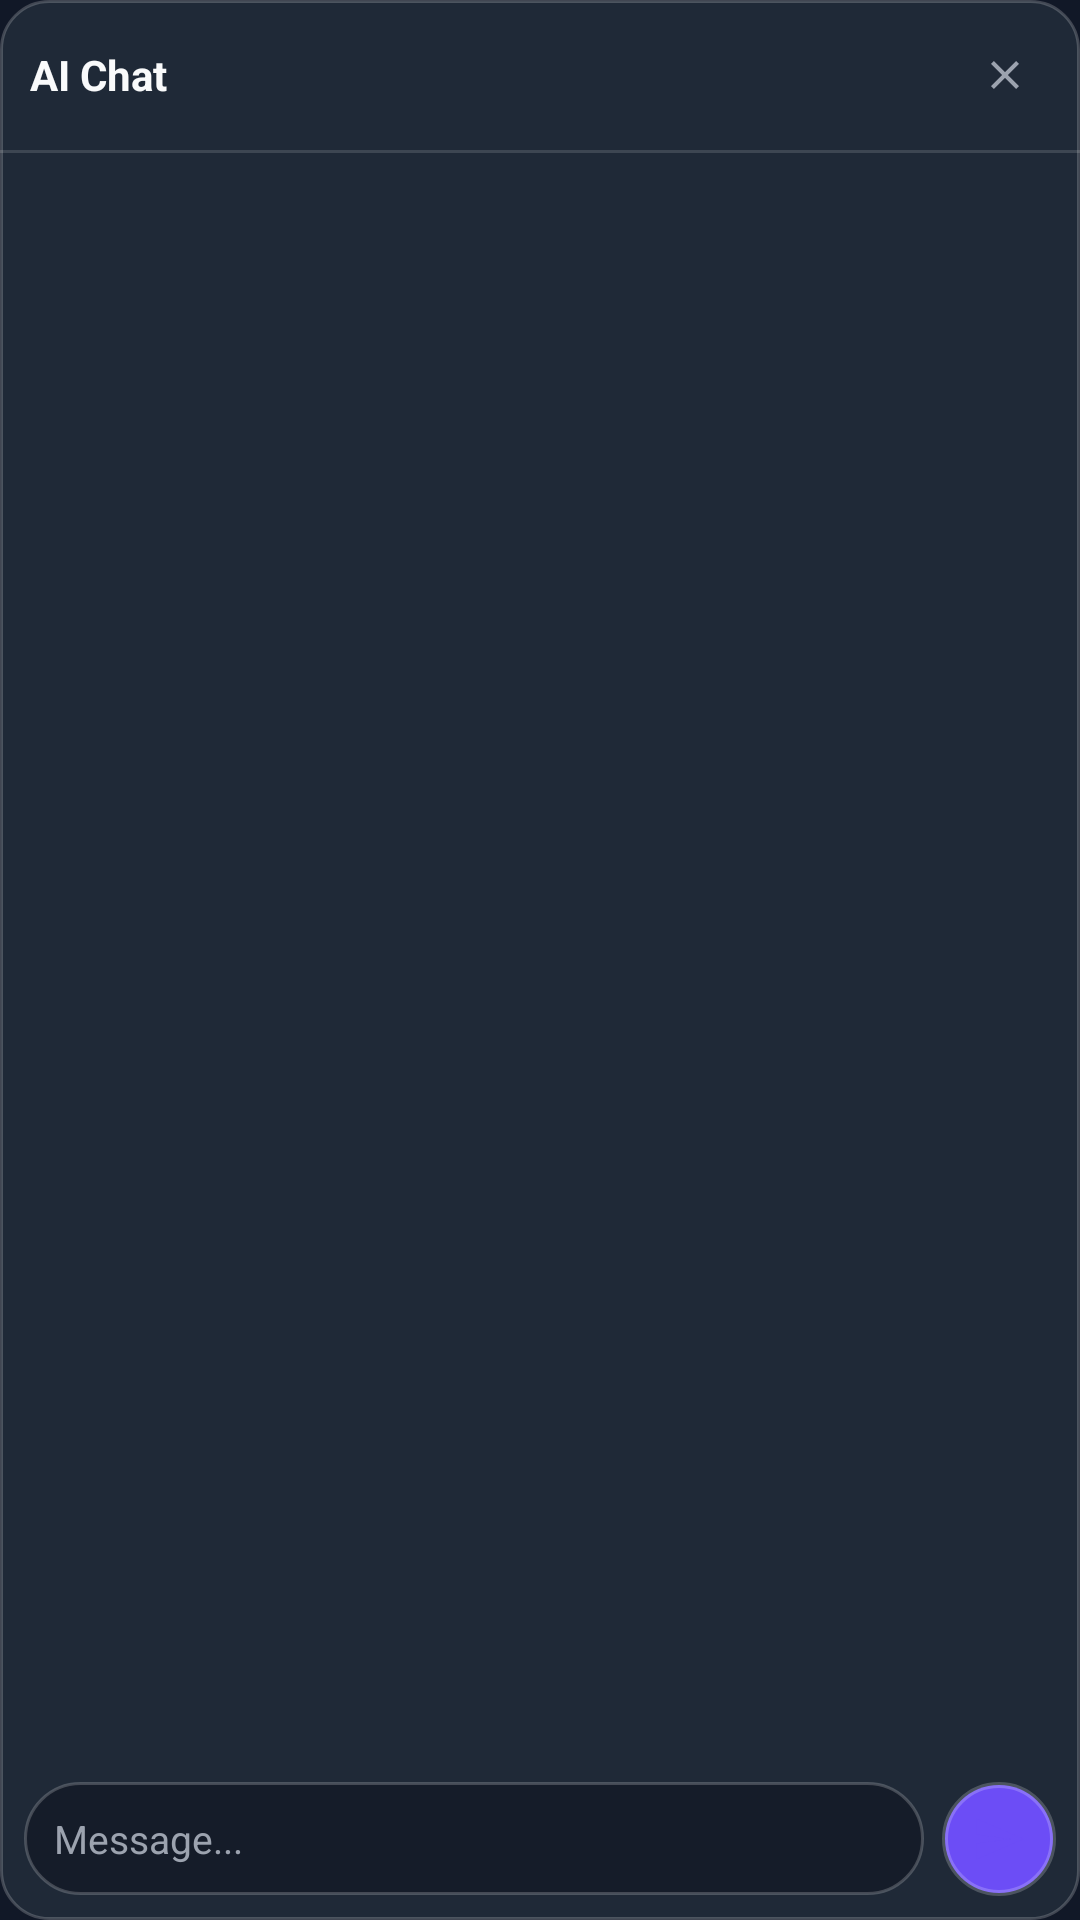

Icon bounding boxes for this 1080×1920 phone screenshot, format (x1, y1, x2, y2):
close: (991, 61, 1019, 89)
